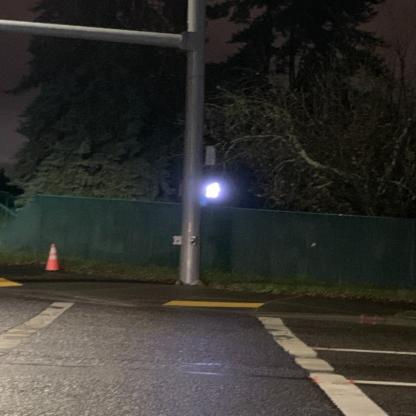Walk: (203, 179, 225, 199)
